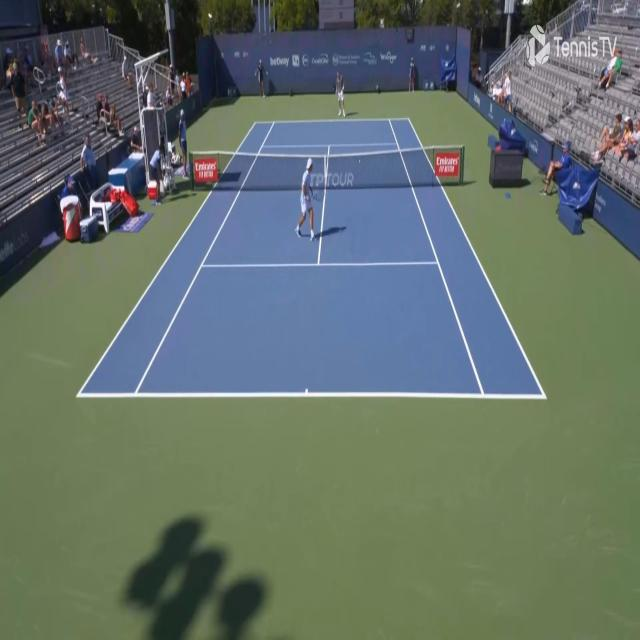tennis-player: (292, 155, 322, 244), (334, 67, 346, 118)
